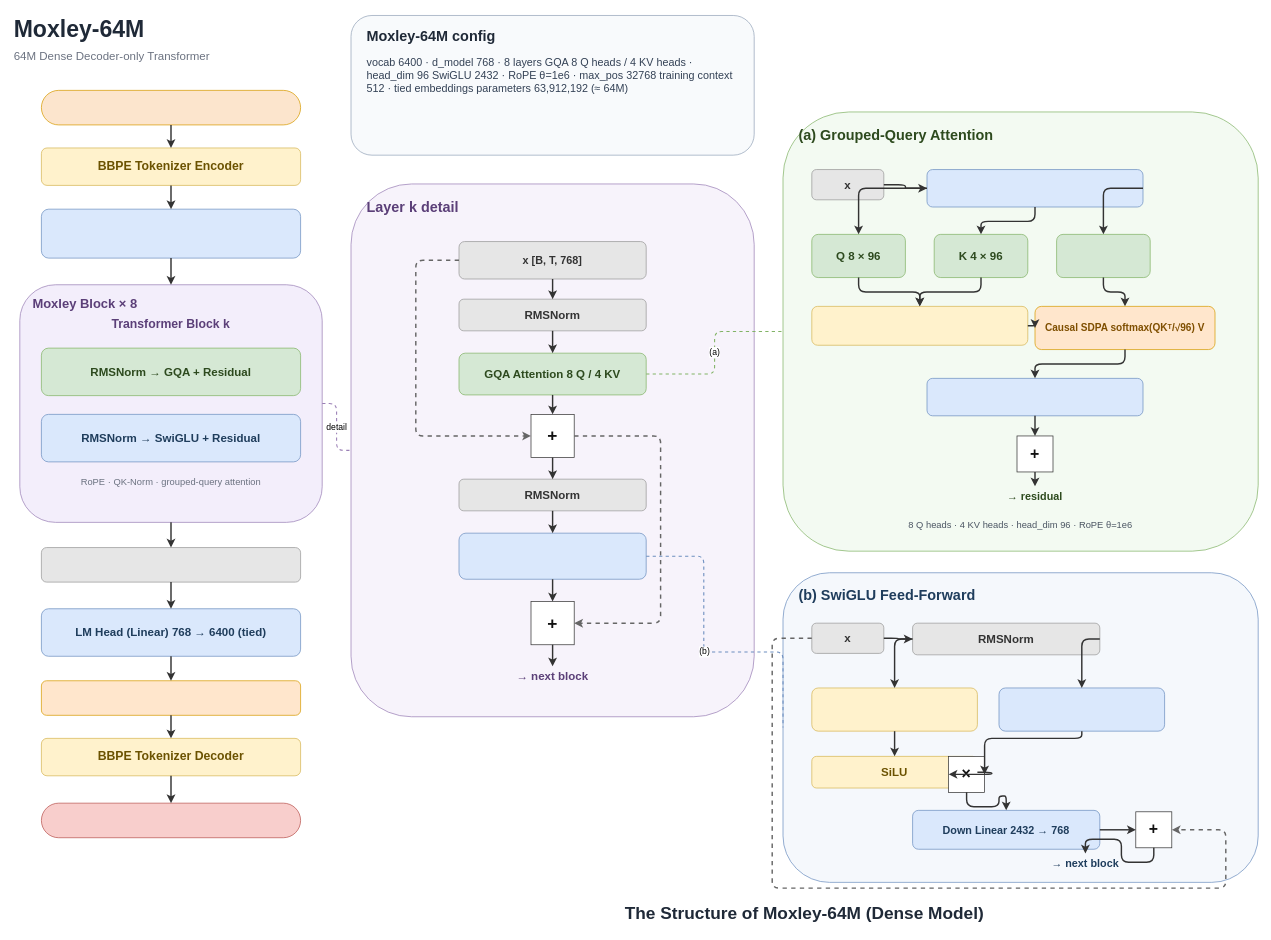
This 1271x940 diagram has some shape labels left out. The shapes that lost their labels are listed below. From the top down, each one's centre as x and y in pixels, then its label:
At point 171,107: "hello + world".
At point 1034,188: "QKV Linear 768 → 768".
At point 171,233: "Input Embedding 6400 × 768 (tied)".
At point 1103,256: "V 4 × 96".
At point 919,325: "QK-Norm + RoPE".
At point 1034,397: "O Linear 768 → 768".
At point 171,564: "Final RMSNorm".
At point 552,555: "SwiGLU FFN 768 → 2432 → 768".
At point 171,697: "Softmax".
At point 894,709: "Gate Linear 768 → 2432".
At point 1081,709: "Up Linear 768 → 2432".
At point 171,820: "generated text".
